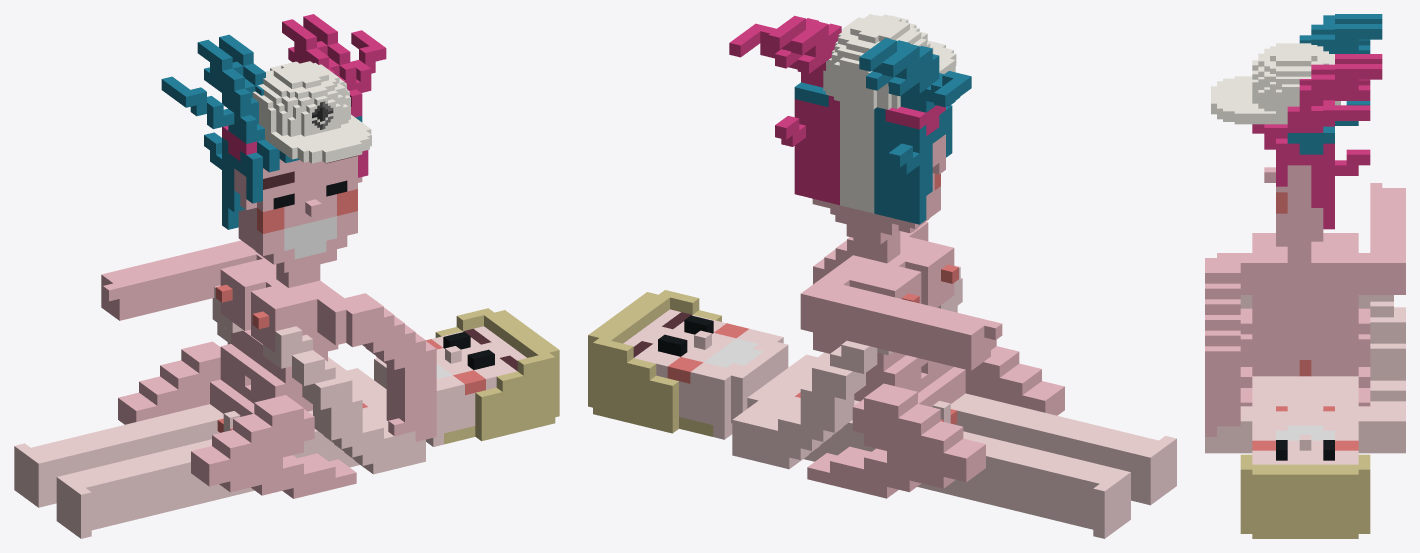
File: kama25.glb
The picture shows the model from 3 angles, left to right: view 1: azimuth 30°, elevation 25°; view 2: azimuth 150°, elevation 25°; view 3: azimuth 270°, elevation 25°; orthographic projection. The views are drawn at different scales.
Parts seen in each view (by area): view 1: Node; view 2: Node; view 3: Node.
Boxes of the visible parts, left/top/right/bottom form: Node: left=14, top=14, right=559, bottom=538; Node: left=588, top=14, right=1176, bottom=538; Node: left=1205, top=14, right=1405, bottom=538.
Bounding box in the file's own units: 18.4 × 14.4 × 6.8.
Materials: 1 (1 with a texture image).
